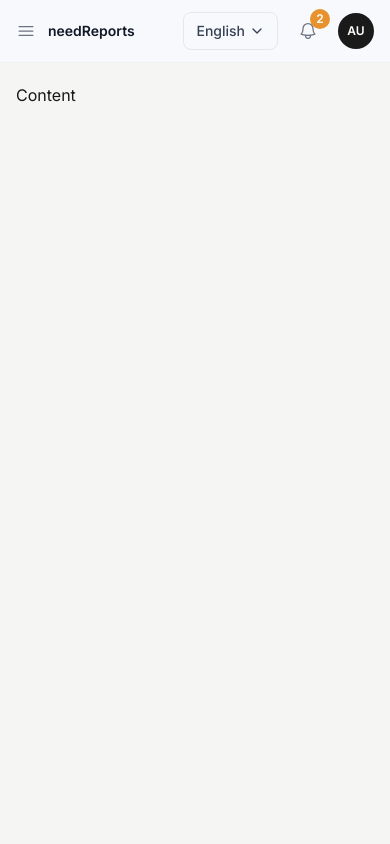
Test: Admin responsive navigation › opens the full navigation drawer from the topbar on mobile widths
The width and height of the screenshot is (390, 844).
Click the button named "openMenu". click: (26, 31)
box: [16,21,36,41]
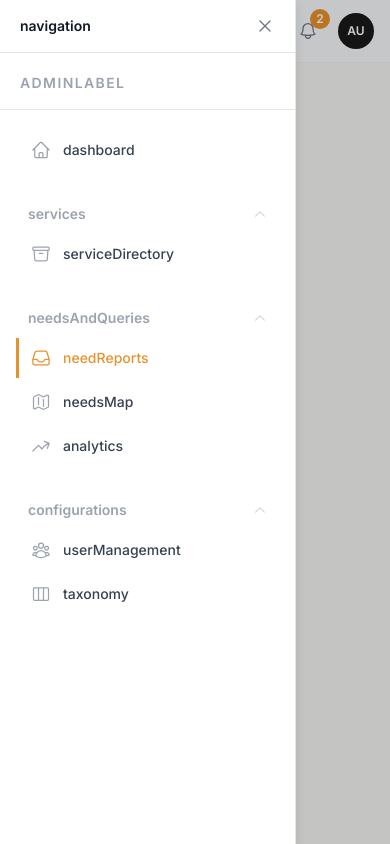
Check: the dialog named "adminNavigation" is shown
Check: the link "needReports" is shown, box [16,338,279,378]
